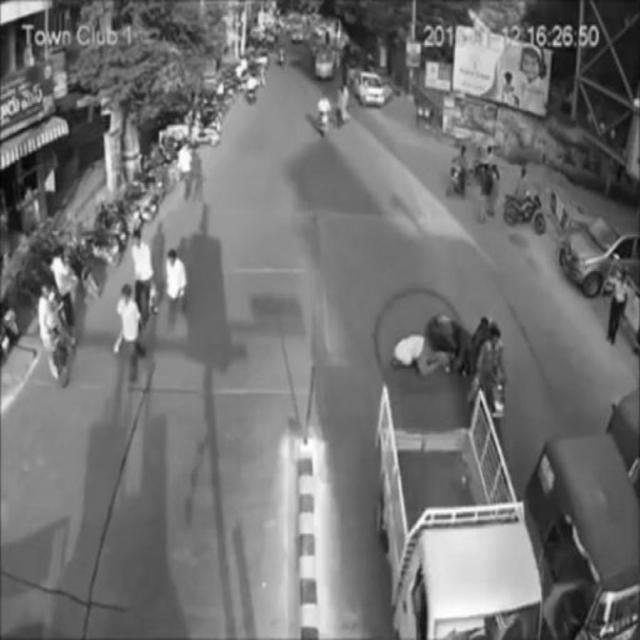person: (113, 281, 147, 382), (127, 230, 157, 326), (159, 248, 189, 336)
vehicle: (374, 389, 542, 640), (525, 440, 639, 640), (561, 212, 638, 296), (468, 319, 514, 447)
